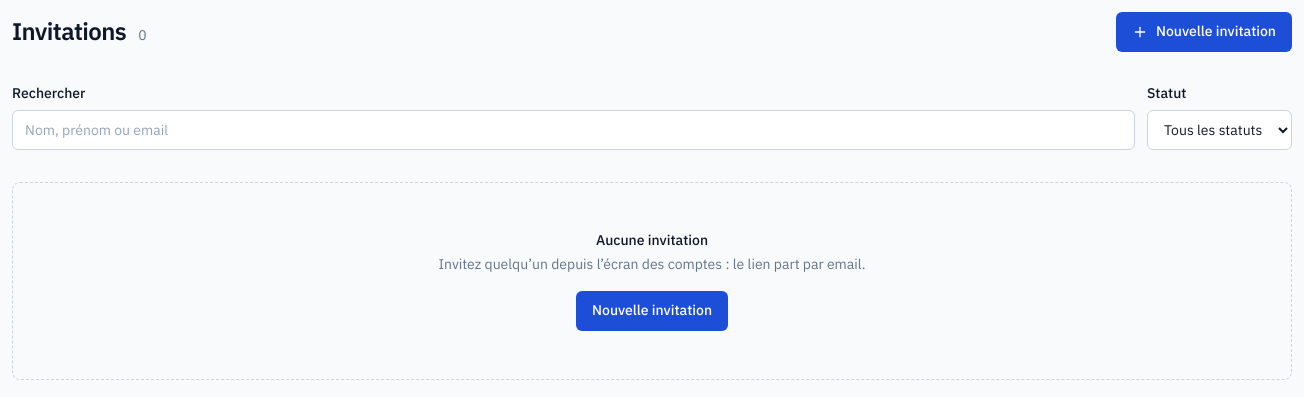
it: InvitationListPage › says "no result" under an active filter, and offers to clear it
Expected: the text "Aucune invitation" is shown, [596,230,708,251]
Select "Expirée" in the dropdown labelled "Statut" at (1220, 130), box [1147,110,1292,150]
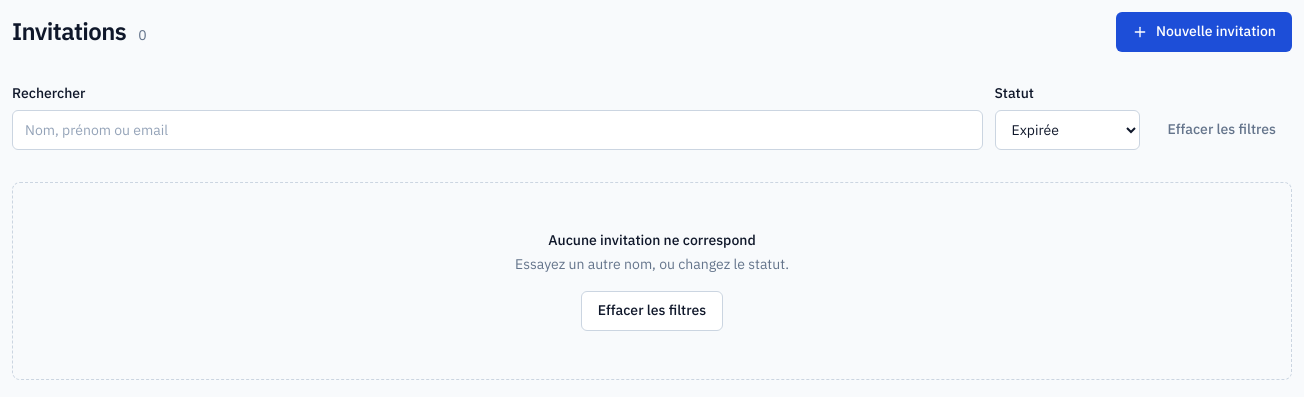
Expected: the text "Aucune invitation ne correspond" is shown, [548,230,756,251]
Expected: the 1st button "Effacer les filtres" is shown, [1152,110,1292,150]
